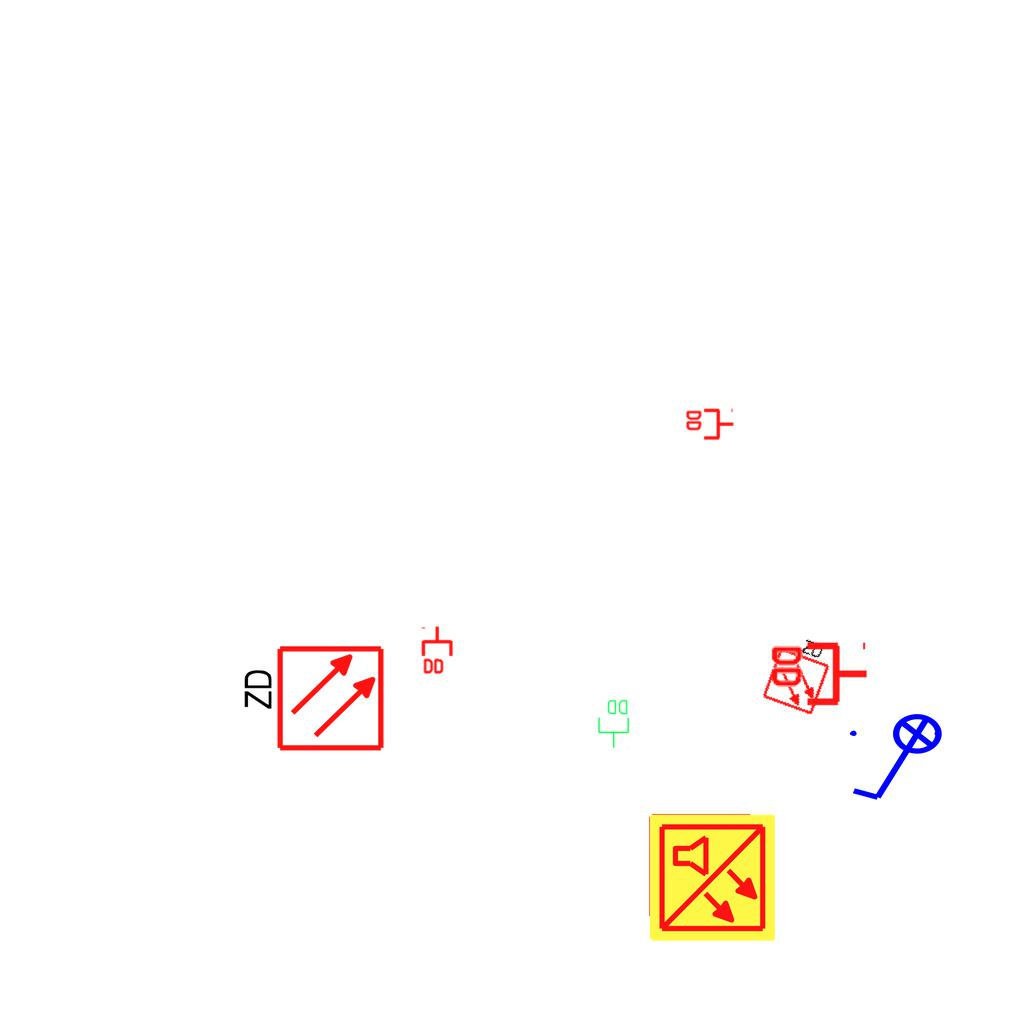Ausschalter_beleuchtet: (844, 712, 956, 808)
Datenanschluss_zweifach: (767, 641, 870, 710), (421, 625, 455, 676), (597, 698, 631, 749), (684, 408, 735, 442)
OKW_Multisensormelder_(Kombination_optischer_Rauch-Kahlenmonoxid_Waerme-Melder): (646, 812, 778, 944)
ZD_Melder_in_Zwischendecke_mit_Revisionsoeffnung_mind_40_x_40_cm: (237, 643, 386, 757), (759, 627, 838, 717)
